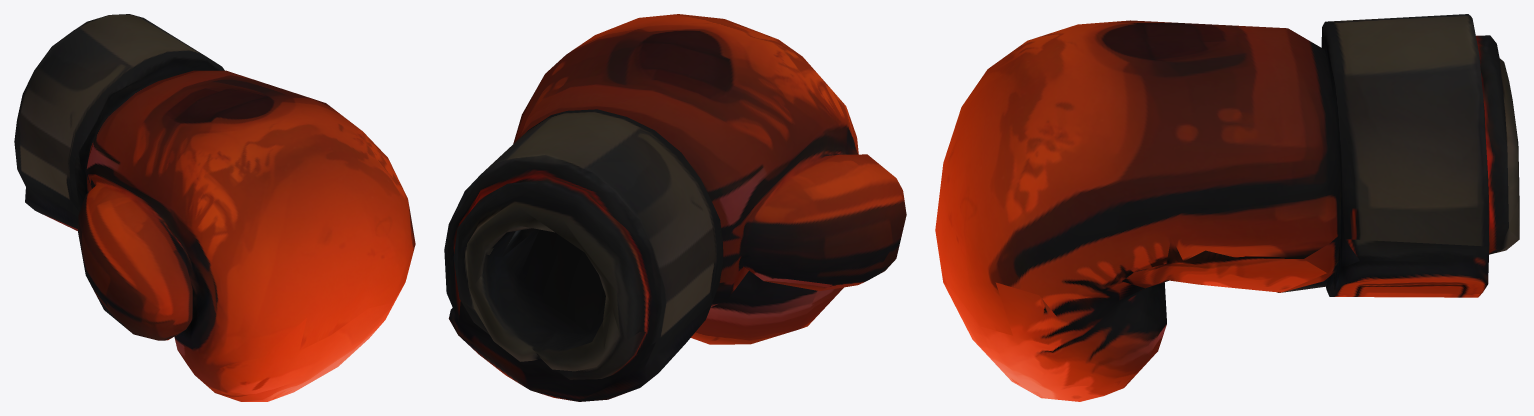
The model's file is Glove_Left.fbx.
3 views of the same model, side by side, from view 1: azimuth 30°, elevation 25°; view 2: azimuth 150°, elevation 25°; view 3: azimuth 270°, elevation 25° (orthographic). The views are drawn at different scales.
Parts seen in each view (by area): view 1: Glove_Left; view 2: Glove_Left; view 3: Glove_Left.
Part boxes in pixels (left/top/right/bottom): Glove_Left: left=14, top=14, right=415, bottom=401; Glove_Left: left=444, top=14, right=906, bottom=401; Glove_Left: left=935, top=14, right=1519, bottom=401.
Bounding box in the file's own units: 136 × 120 × 182.
